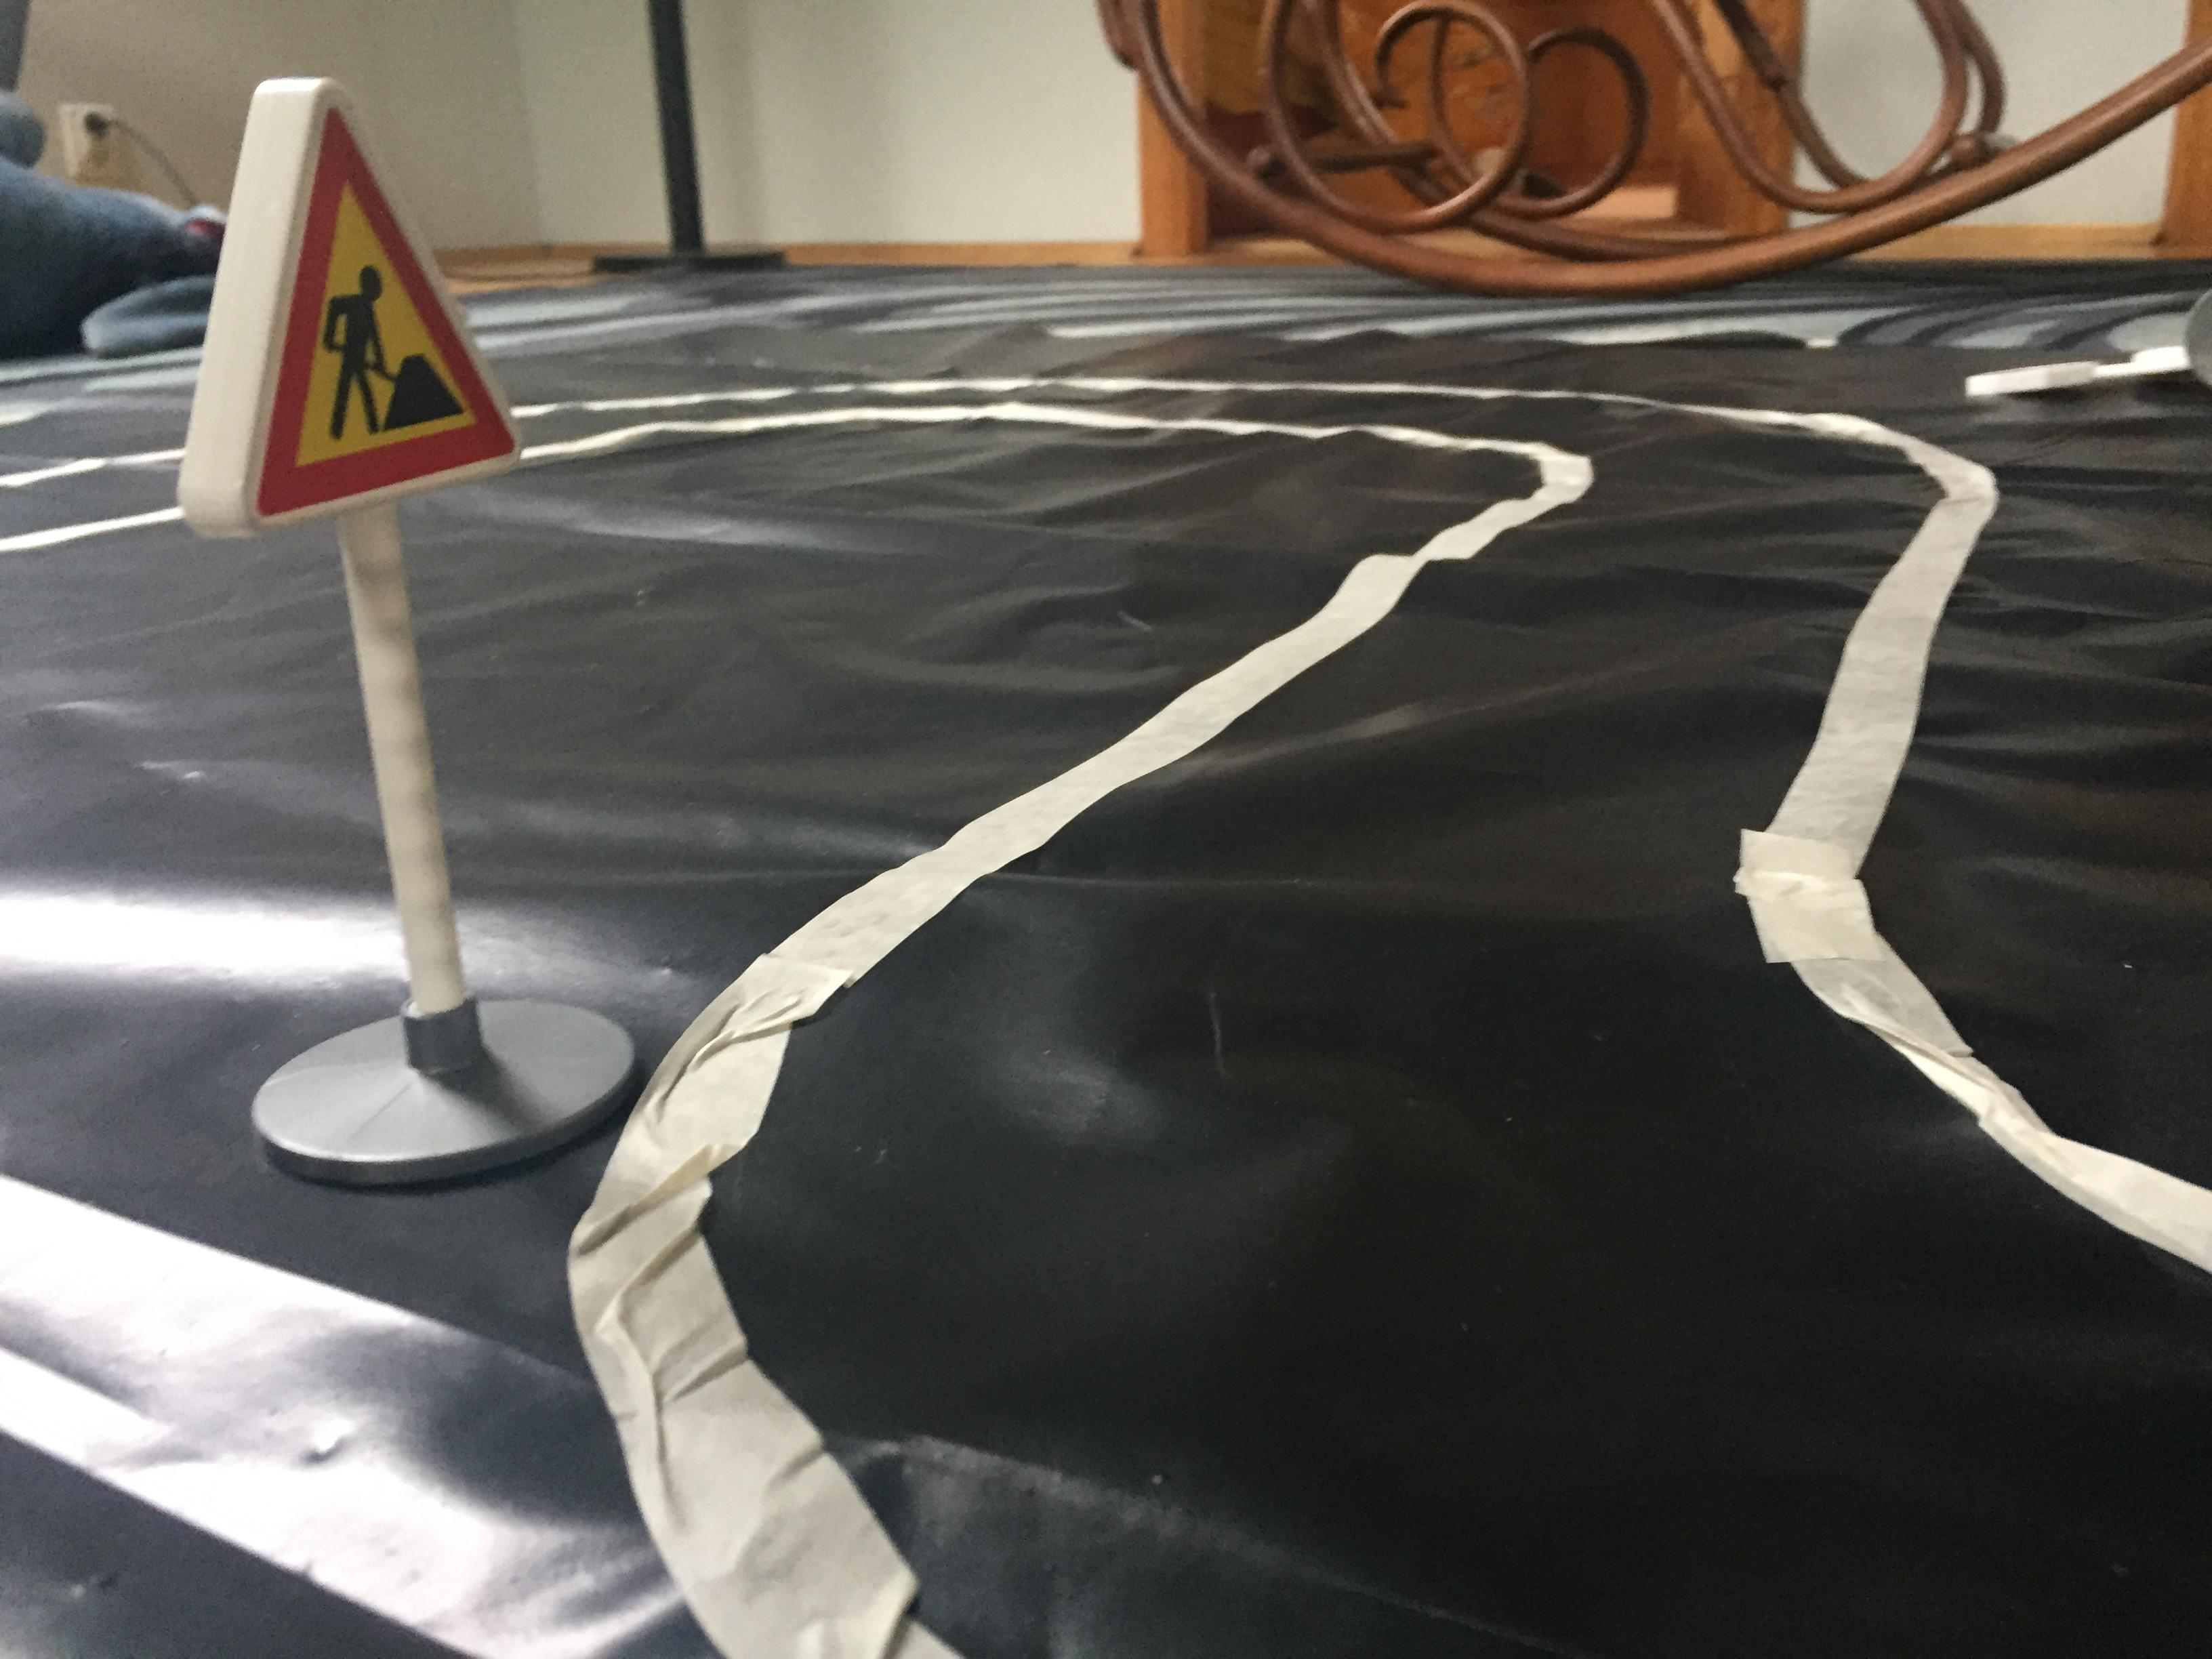work: (158, 58, 545, 554)
